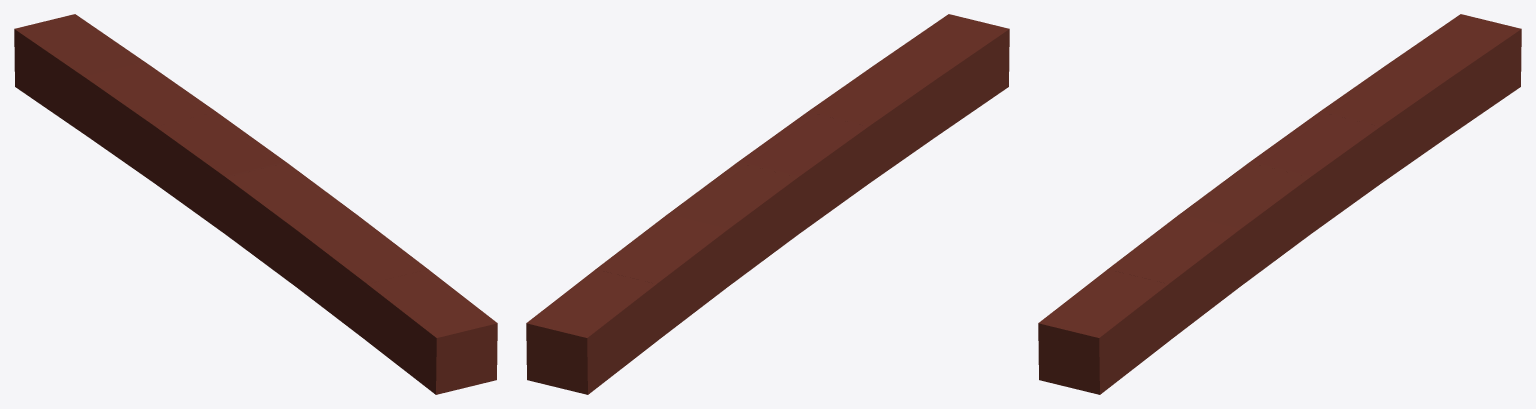
3 views of the same model, side by side, from view 1: azimuth 30°, elevation 25°; view 2: azimuth 150°, elevation 25°; view 3: azimuth 330°, elevation 25° (orthographic).
Parts seen in each view (by area): view 1: liang-five-purlin@1.0.0; view 2: liang-five-purlin@1.0.0; view 3: liang-five-purlin@1.0.0.
Boxes of the visible parts, x1,y1,x2,y2 form: liang-five-purlin@1.0.0: (14, 14, 497, 394); liang-five-purlin@1.0.0: (526, 14, 1009, 394); liang-five-purlin@1.0.0: (1038, 14, 1521, 394).
Size of the model in its own units: 0.5 by 0.5001 by 6.
